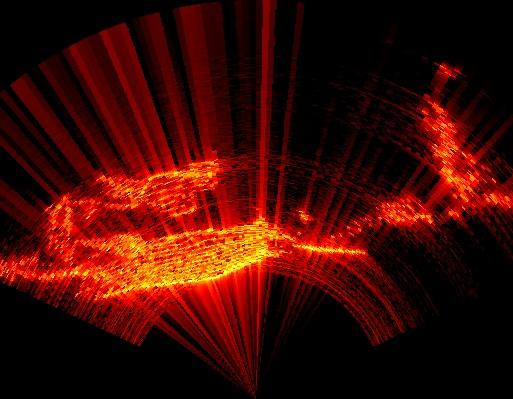shipwreck: (2, 196, 363, 298), (95, 160, 221, 215), (428, 102, 483, 194), (380, 197, 434, 225), (478, 191, 512, 208), (438, 206, 464, 218)
